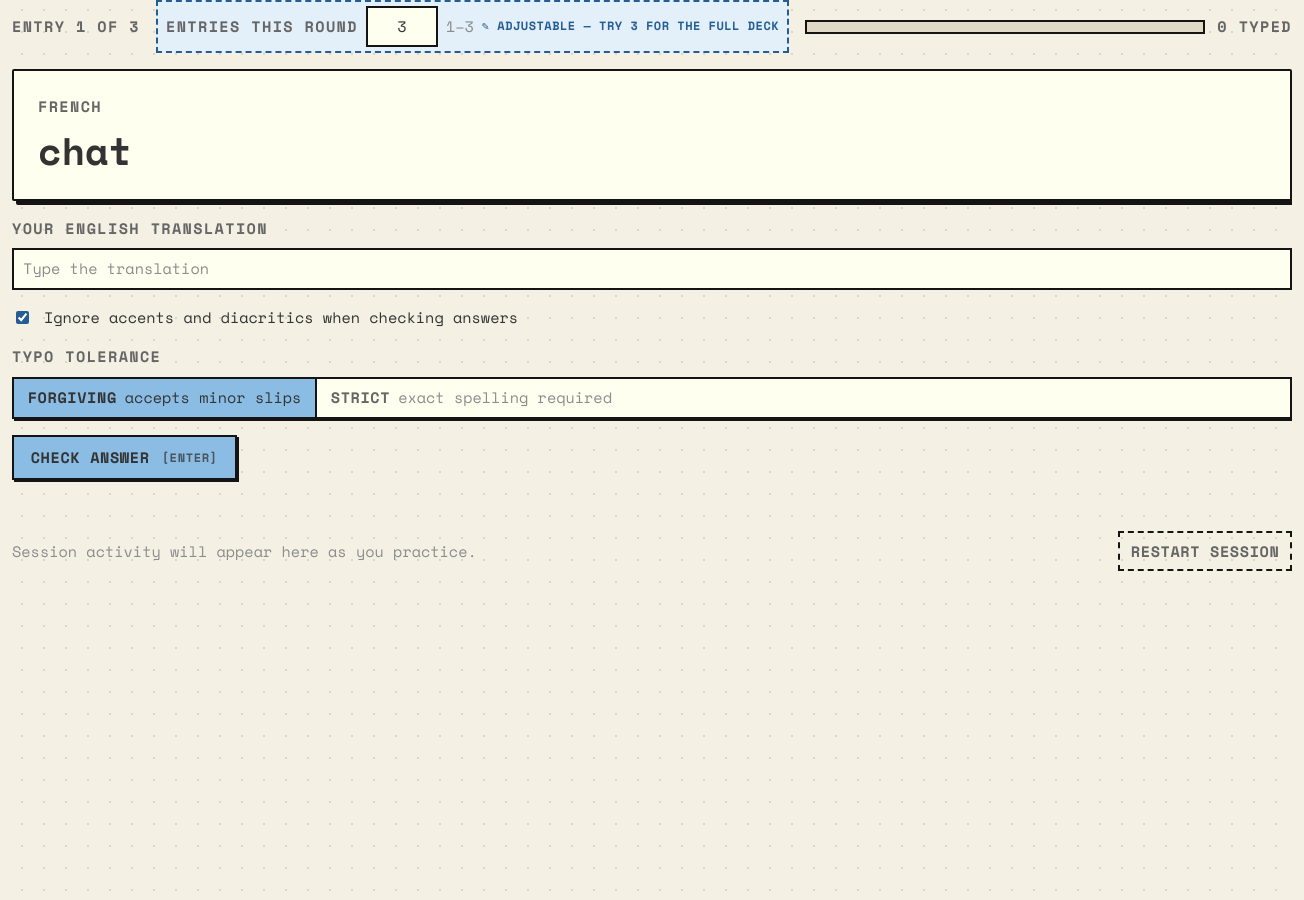
Test: game modes with animations enabled › typing validates empty input, accepts alternatives and announces results
Click the button "Check answer [Enter]". click: [124, 458]
box: [12,435,237,480]
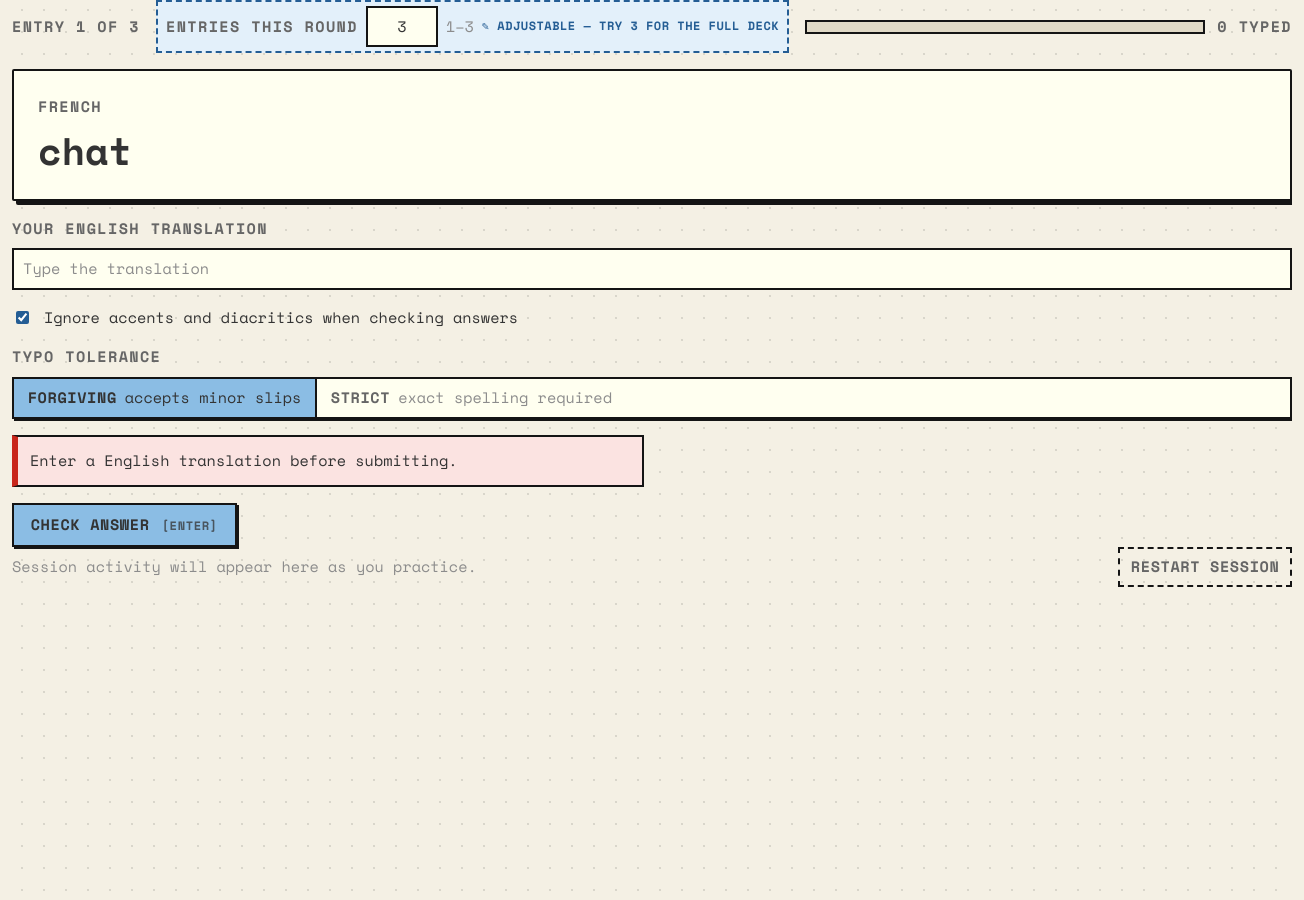
Expected: the element named "Session statistics" reads "Session activity will appear here as you practice. Restart session", [12,555,477,577]
Expected: the message shows "Enter a English translation", [30,449,458,471]
Type "cat" into the field. click: [652, 269]
box: [12,248,1292,290]
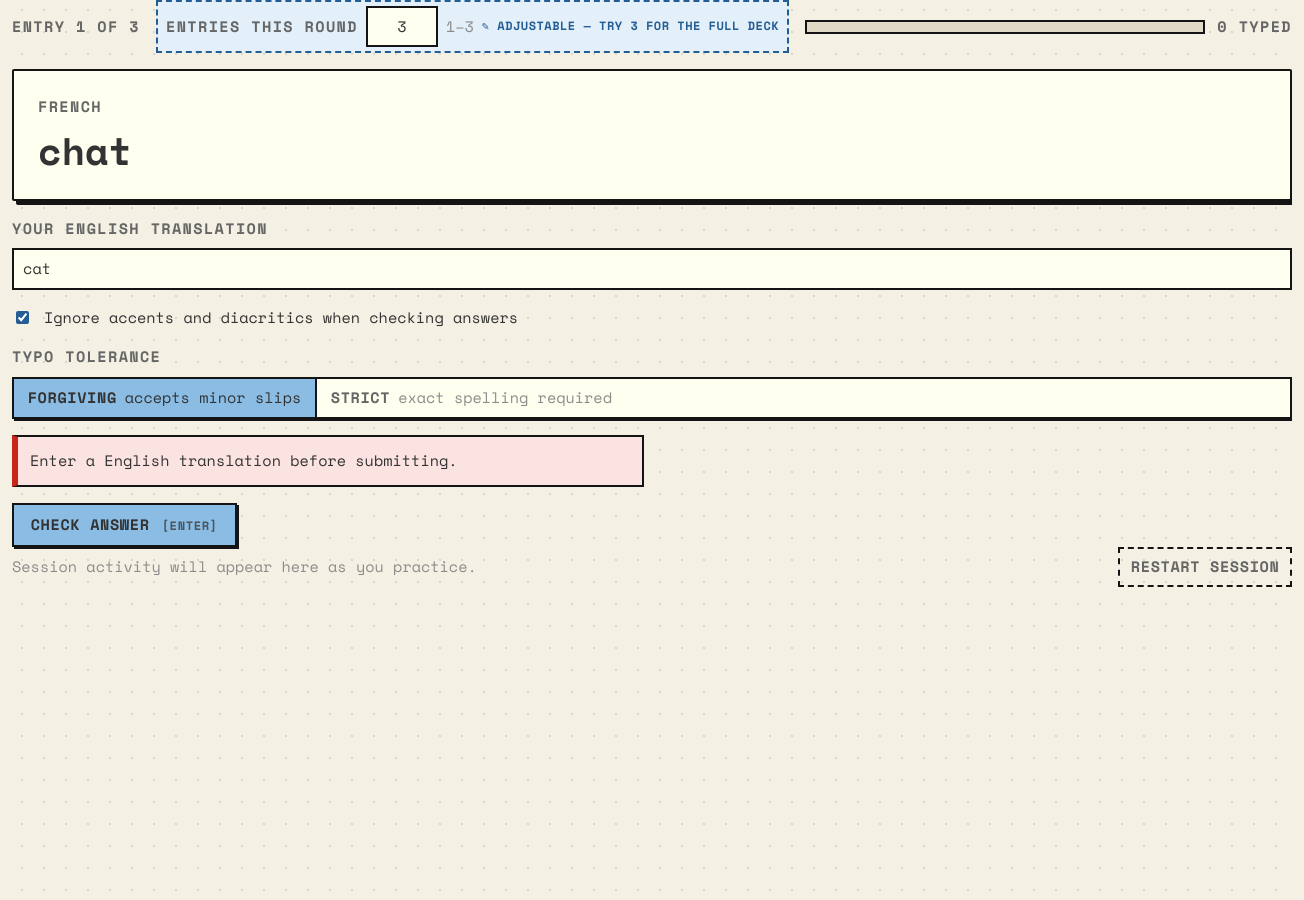
Click the button "Check answer [Enter]". click: [124, 525]
box: [12,503,237,547]
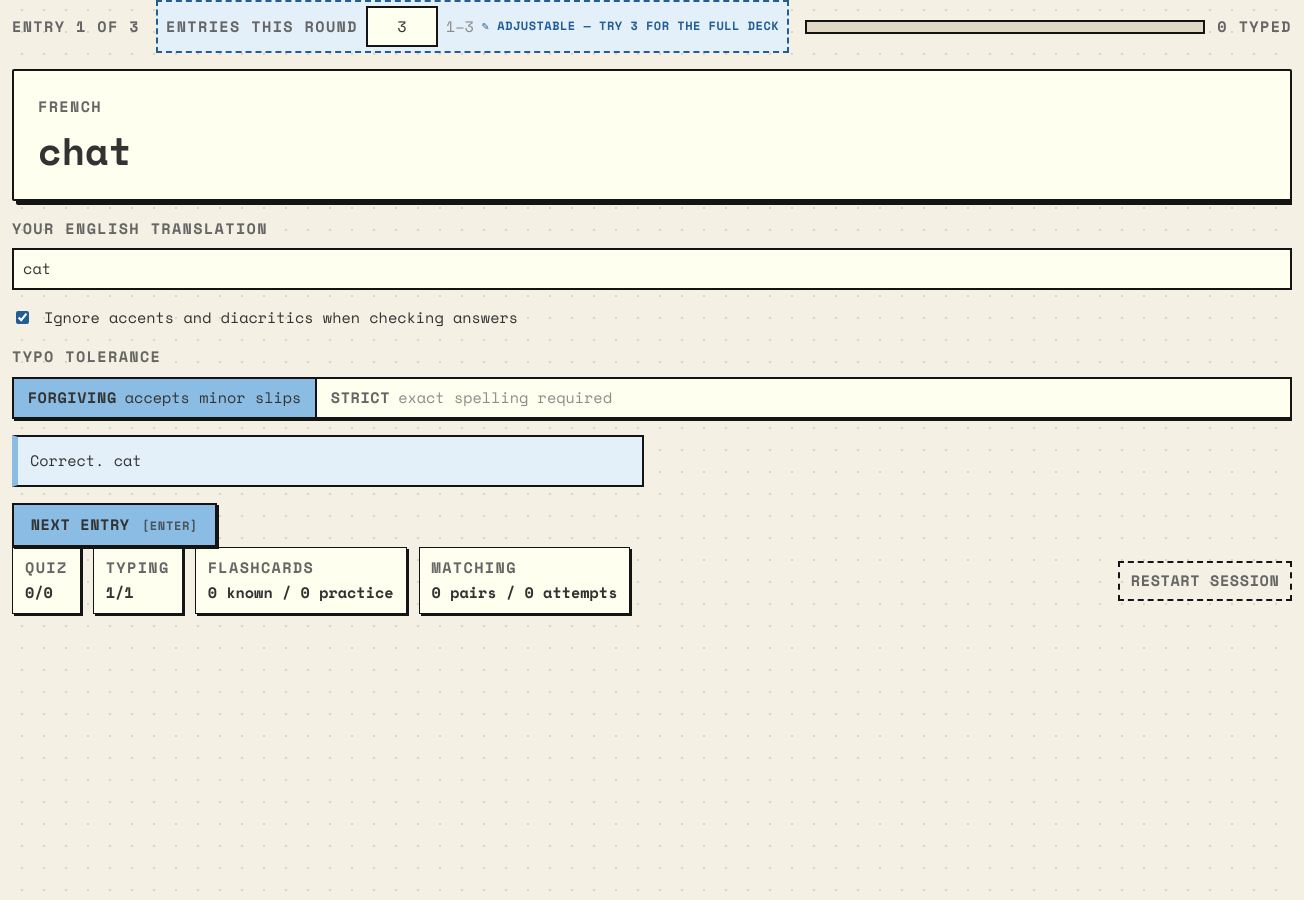
Expected: the message shows "Correct.", [30,449,142,471]
Expected: the element named "Session statistics" shows "1/1", [106,581,134,603]
